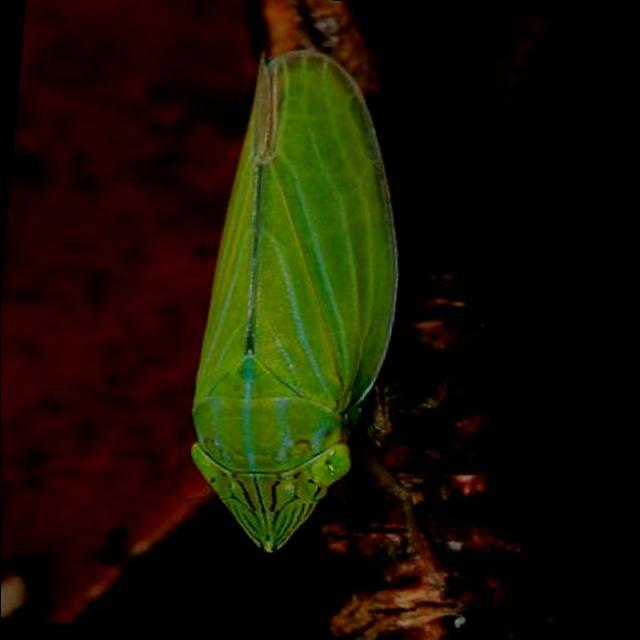green leaf hopper: (191, 49, 396, 550)
